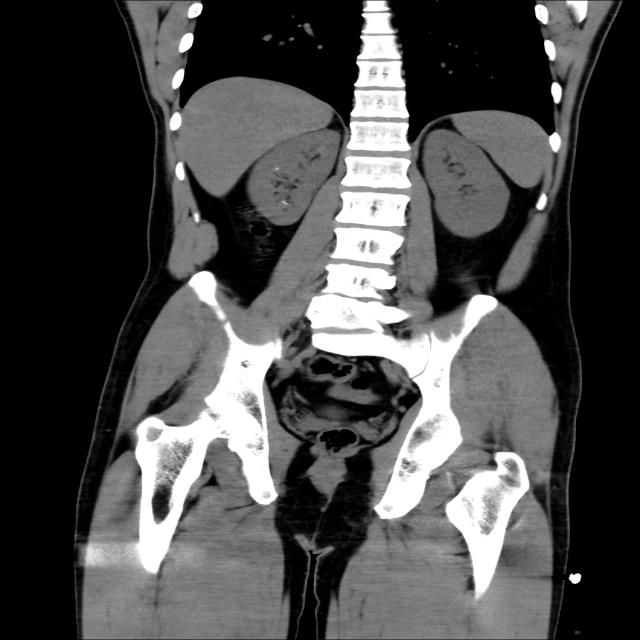kidneystone: (280, 200, 288, 205)
